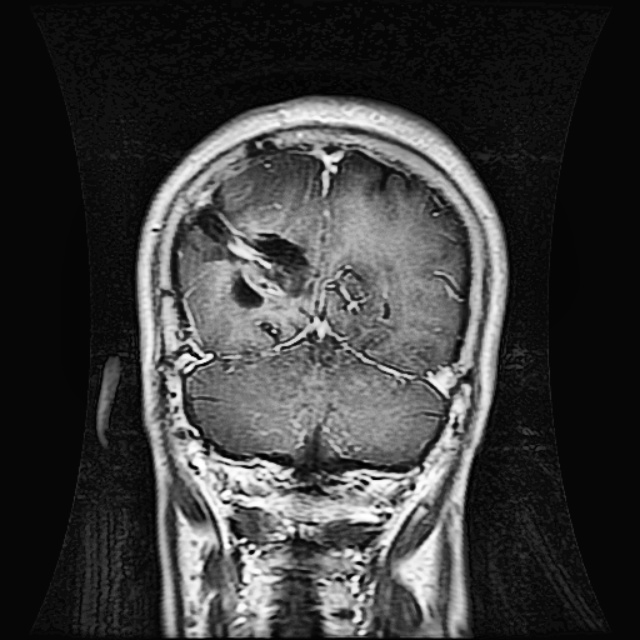Meningioma: (195, 188, 308, 308)
